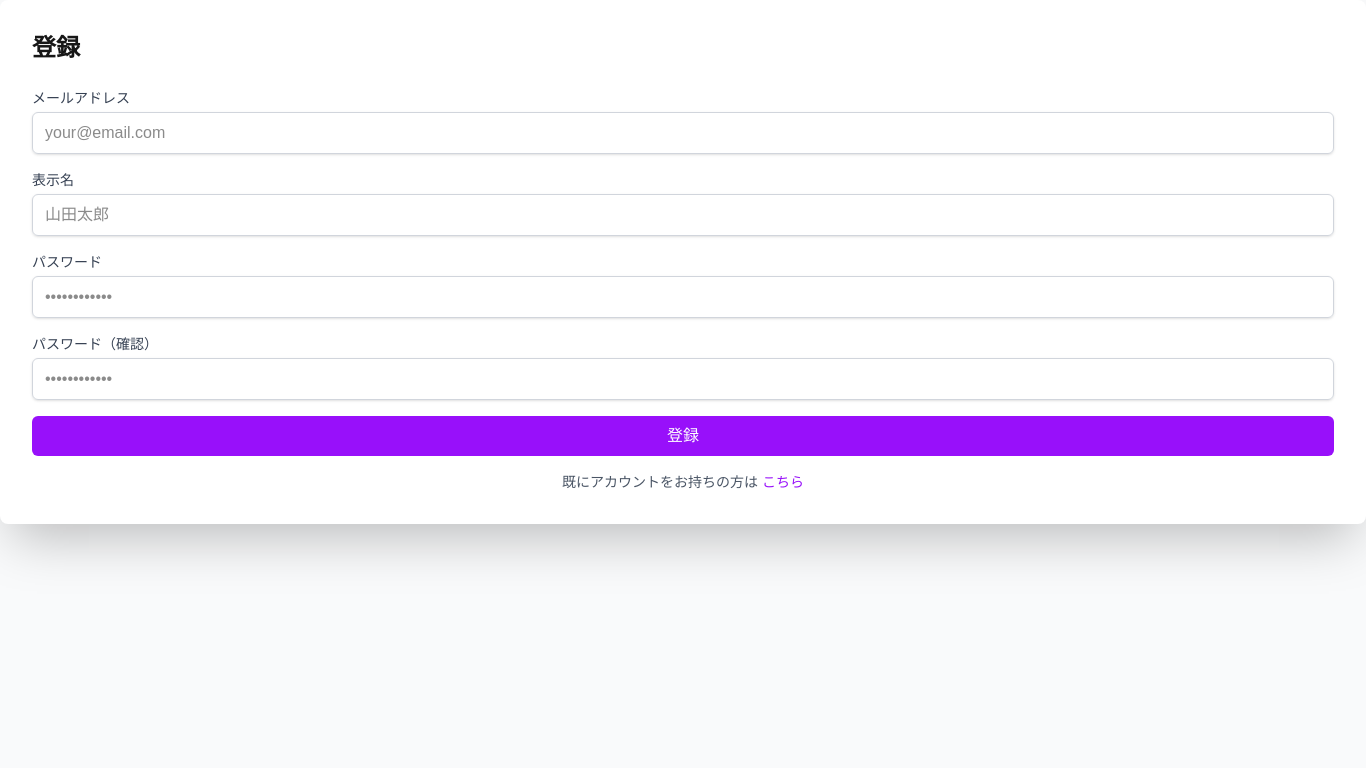
Test case: RegisterForm › バリデーションエラー › 表示名が空の場合エラーが表示される
Type "test@example.com" into the field labelled "メールアドレス" at [683, 133], box x1=32 y1=112 x2=1334 y2=154
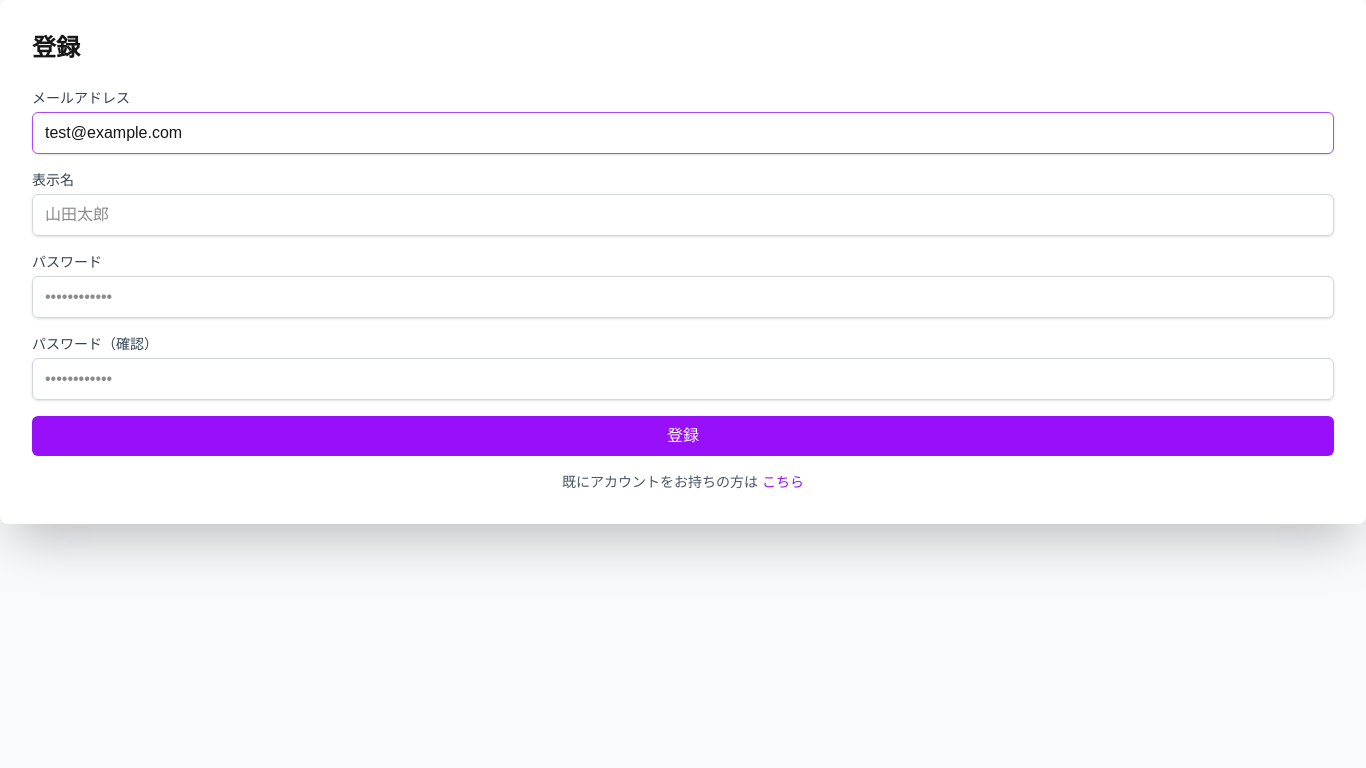
Click the button "登録" at [683, 436], box x1=32 y1=416 x2=1334 y2=456
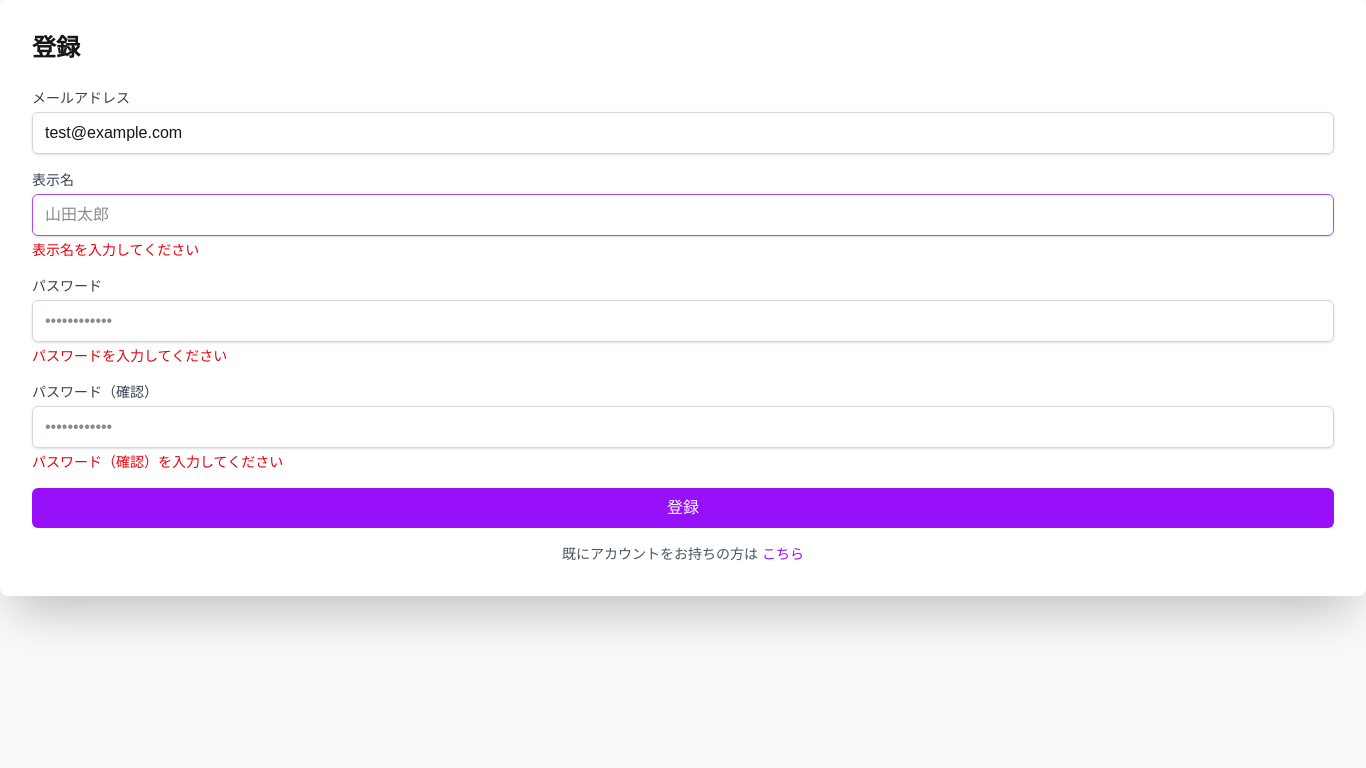
Now the text "表示名を入力してください" is shown, box x1=32 y1=242 x2=199 y2=258
